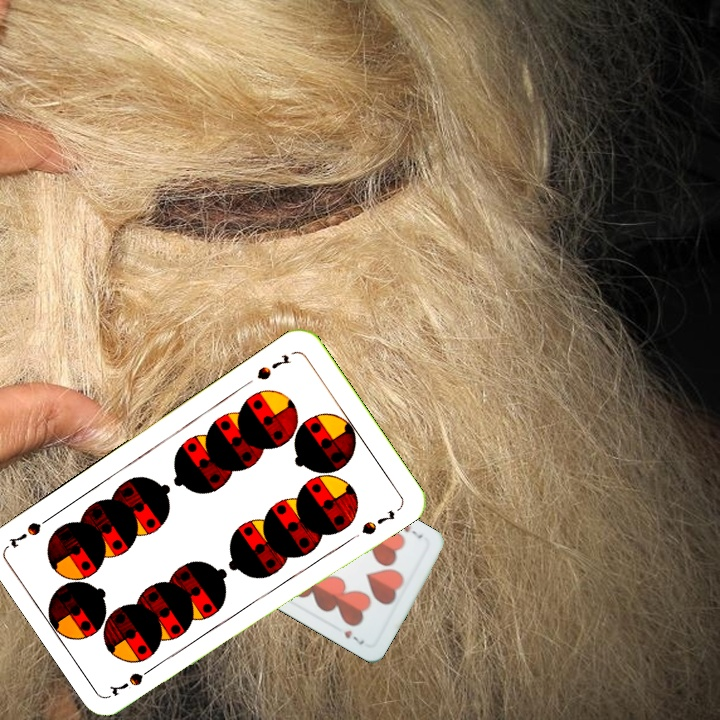H7: (400, 520, 425, 541)
S7: (107, 660, 160, 699), (252, 349, 293, 383)
